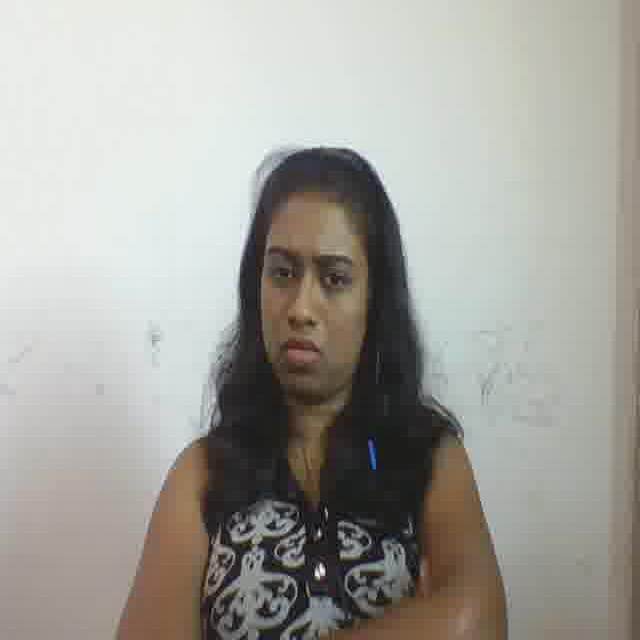Frustration: (258, 192, 367, 392)
